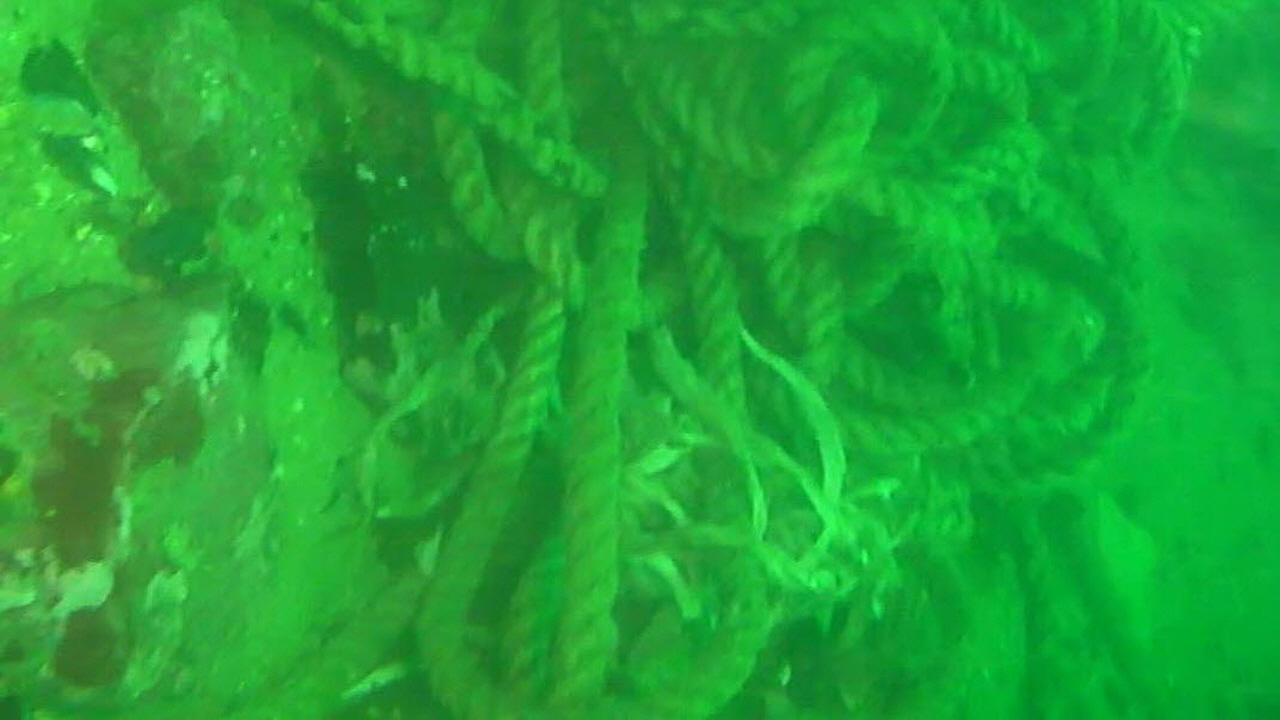bundle of ropes: (246, 1, 1191, 720)
